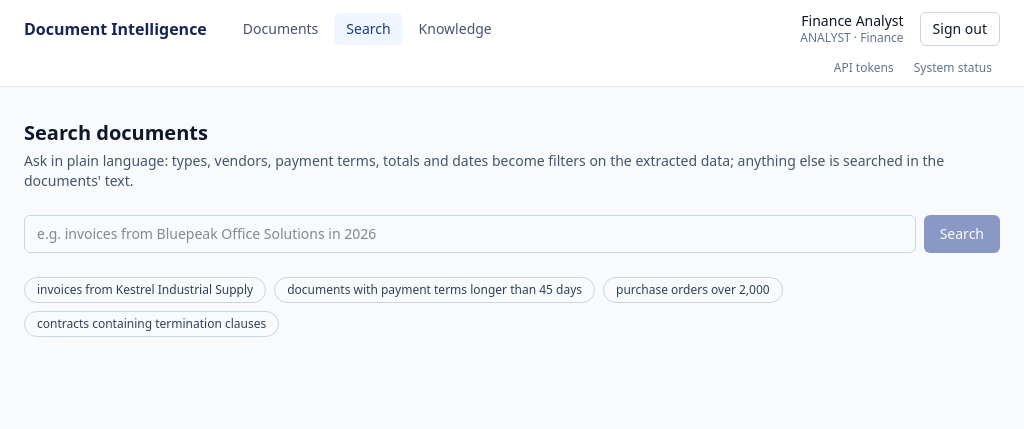
Test: document search › shows text matches with their snippet and free-text interpretation
Type "contracts containing termination clauses" into the field named "Search". click: (470, 234)
box: [24,215,916,253]
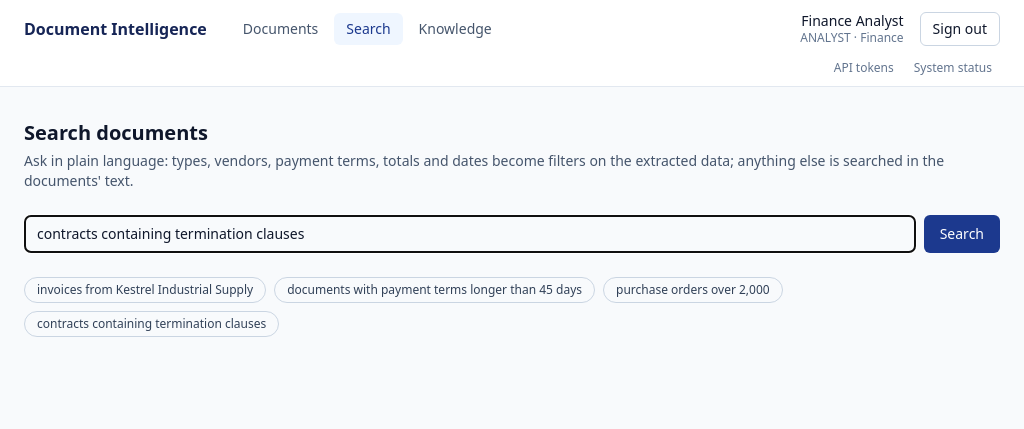
Click the button "Search". click: (962, 234)
box: [924,215,1000,253]
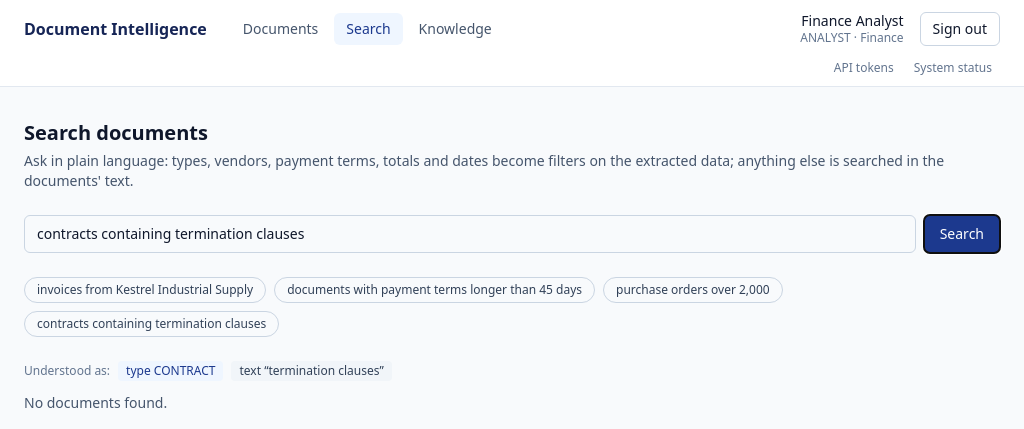
Result: the text "type CONTRACT" is shown at [118,361,224,381]
Result: the text "text “termination clauses”" is shown at [232,361,392,381]
Result: the text "No documents found." is shown at [24,393,167,412]
